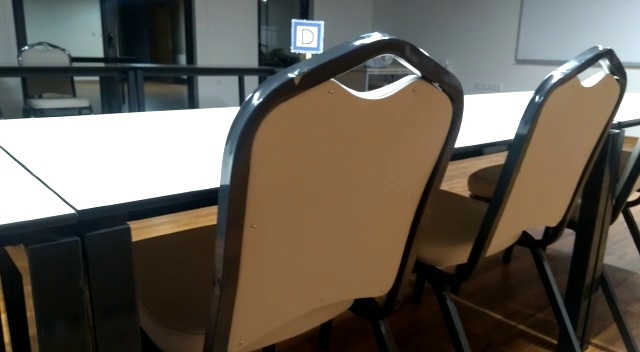durak: (292, 20, 324, 52)
